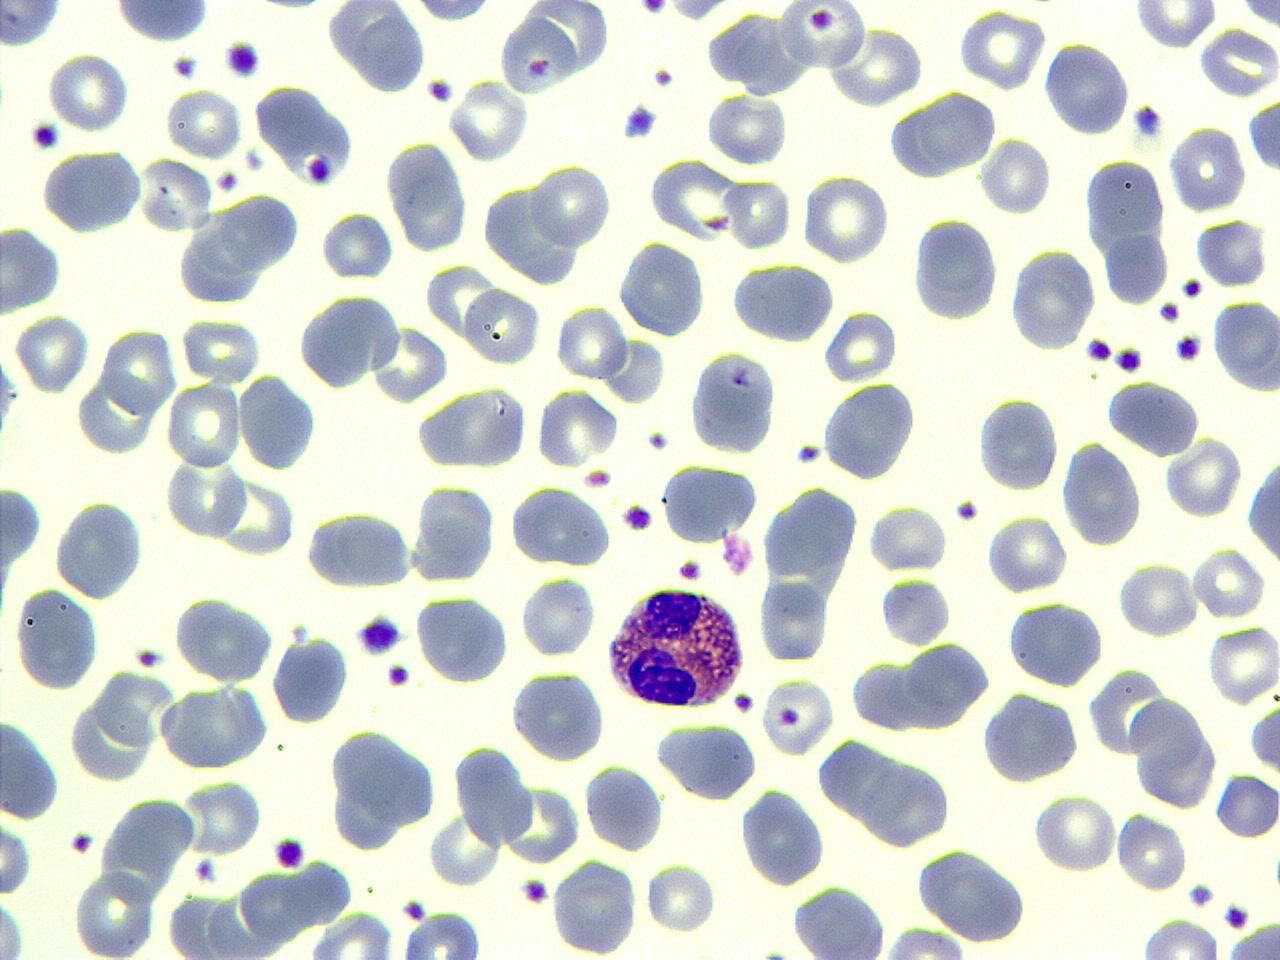Platelets: (1195, 215, 1269, 290), (353, 614, 404, 658), (720, 531, 756, 579), (224, 38, 263, 82), (0, 350, 19, 440), (621, 104, 659, 143), (1129, 102, 1165, 141), (272, 835, 308, 871), (620, 502, 656, 532), (1172, 331, 1204, 364), (29, 121, 63, 151), (1111, 344, 1145, 374), (424, 75, 455, 106), (519, 875, 550, 906), (1185, 880, 1217, 909), (132, 646, 167, 672), (1221, 902, 1251, 932), (306, 154, 334, 186), (170, 53, 200, 82), (1083, 336, 1113, 365), (386, 662, 414, 690), (68, 829, 96, 856), (194, 856, 220, 885), (402, 896, 430, 922), (581, 467, 612, 490), (676, 556, 703, 582), (795, 441, 824, 465), (213, 169, 241, 193), (645, 428, 671, 452), (954, 498, 978, 524), (1157, 299, 1183, 323), (732, 690, 756, 716), (651, 66, 675, 91), (1269, 848, 1280, 899), (756, 944, 790, 960), (638, 0, 670, 17), (1181, 276, 1203, 299)
RBC: (175, 188, 308, 307), (324, 724, 442, 853), (760, 476, 860, 606), (914, 842, 1029, 946), (493, 2, 614, 99), (296, 287, 408, 388), (1128, 692, 1222, 810), (818, 376, 920, 482), (887, 87, 1002, 179), (686, 347, 781, 457), (51, 497, 149, 603), (324, 0, 432, 96), (980, 688, 1085, 786), (413, 384, 530, 471), (910, 214, 1002, 324), (254, 84, 358, 181), (910, 213, 1000, 324), (384, 138, 470, 254), (37, 146, 147, 236), (509, 666, 610, 763), (728, 258, 838, 346), (12, 586, 103, 692), (1058, 437, 1146, 546), (726, 258, 836, 345), (304, 509, 416, 594), (173, 592, 276, 683), (738, 786, 828, 890), (1008, 246, 1096, 352), (414, 591, 512, 686), (410, 479, 497, 586), (617, 238, 708, 340), (1006, 598, 1106, 690), (549, 856, 640, 957), (414, 591, 511, 685), (1082, 152, 1168, 258), (657, 716, 762, 802), (509, 487, 615, 572), (1042, 38, 1132, 138), (156, 686, 263, 770), (861, 752, 952, 850), (66, 693, 160, 784), (976, 392, 1060, 493), (660, 464, 762, 546), (454, 742, 534, 846), (800, 171, 890, 263), (237, 373, 318, 474), (829, 24, 924, 109), (75, 365, 160, 457), (1105, 379, 1205, 457), (583, 760, 665, 854), (71, 868, 156, 958), (958, 5, 1045, 92), (788, 883, 888, 958), (647, 157, 737, 240), (99, 324, 178, 418), (1168, 122, 1248, 214), (164, 454, 248, 541), (1032, 792, 1118, 876), (1, 711, 66, 822), (271, 634, 350, 725), (984, 511, 1070, 594), (530, 162, 612, 249), (165, 378, 243, 469), (449, 76, 529, 163), (184, 774, 266, 858), (502, 780, 582, 866), (218, 472, 297, 558), (1117, 558, 1199, 640), (534, 386, 618, 466), (462, 284, 542, 368), (48, 51, 128, 134), (1213, 295, 1280, 394), (520, 573, 596, 660), (777, 2, 871, 72), (1, 221, 67, 318), (1165, 436, 1241, 520), (14, 311, 89, 396), (1114, 809, 1190, 892), (704, 90, 788, 165), (760, 672, 834, 756), (977, 134, 1052, 216), (180, 313, 264, 386), (554, 301, 628, 383), (866, 502, 950, 574), (1206, 622, 1278, 706), (758, 576, 828, 662), (428, 808, 503, 888), (140, 157, 213, 236), (823, 308, 898, 384), (1199, 26, 1277, 99), (1191, 546, 1267, 620), (644, 860, 718, 936), (164, 87, 241, 160), (878, 573, 952, 648), (320, 209, 396, 279), (1195, 216, 1267, 289), (724, 177, 792, 250), (1104, 229, 1168, 306), (602, 333, 666, 405), (1244, 444, 1280, 572), (109, 0, 216, 43), (307, 908, 396, 959), (1, 477, 45, 579), (1213, 772, 1279, 838), (1131, 0, 1217, 50), (398, 910, 484, 958), (0, 1, 72, 52), (1138, 916, 1220, 959), (876, 924, 970, 960), (1246, 96, 1280, 179), (1247, 702, 1280, 779), (0, 819, 31, 895), (0, 895, 27, 959)
WBC: (604, 582, 750, 710)
